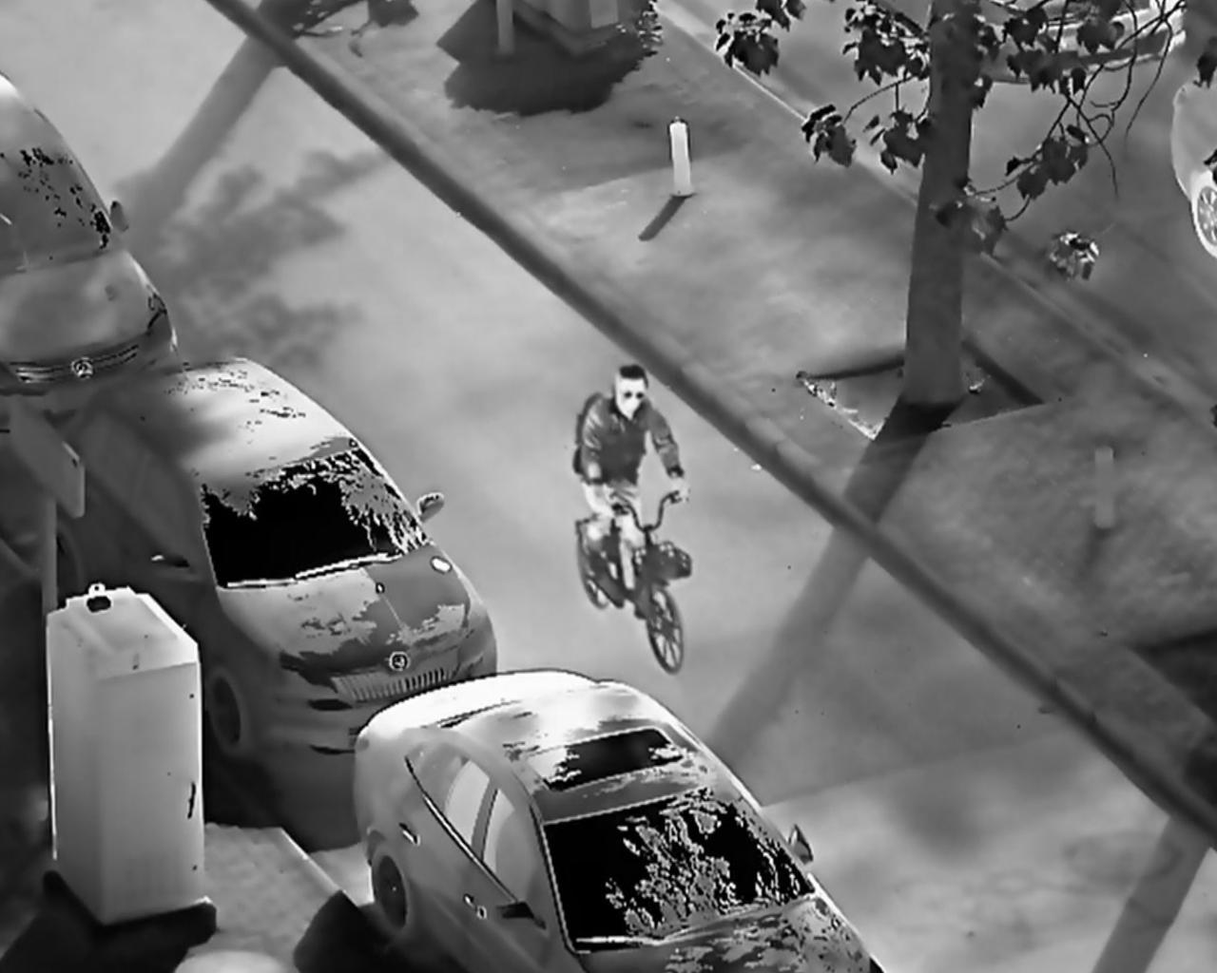person: (567, 363, 689, 598)
